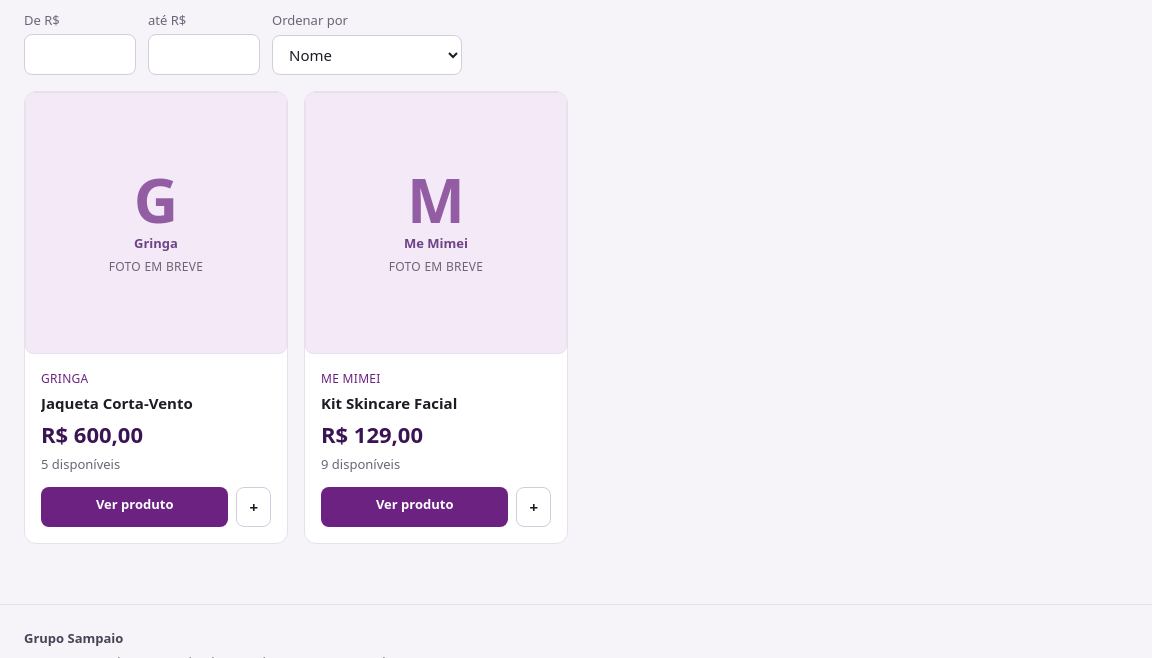
GAP-PRD-114 — a escolha das parcelas no checkout › cartão numa loja que parcela em 6x: a tela oferece 1x a 6x com o valor, e o número viaja no corpo
(page scrolled)
Expected: the text "Jaqueta Corta-Vento" is shown, 41,392 -> 193,412
Click the button "+" below "5 disponíveis".
click(254, 507)  # box 236,486 -> 271,527
(page scrolled)
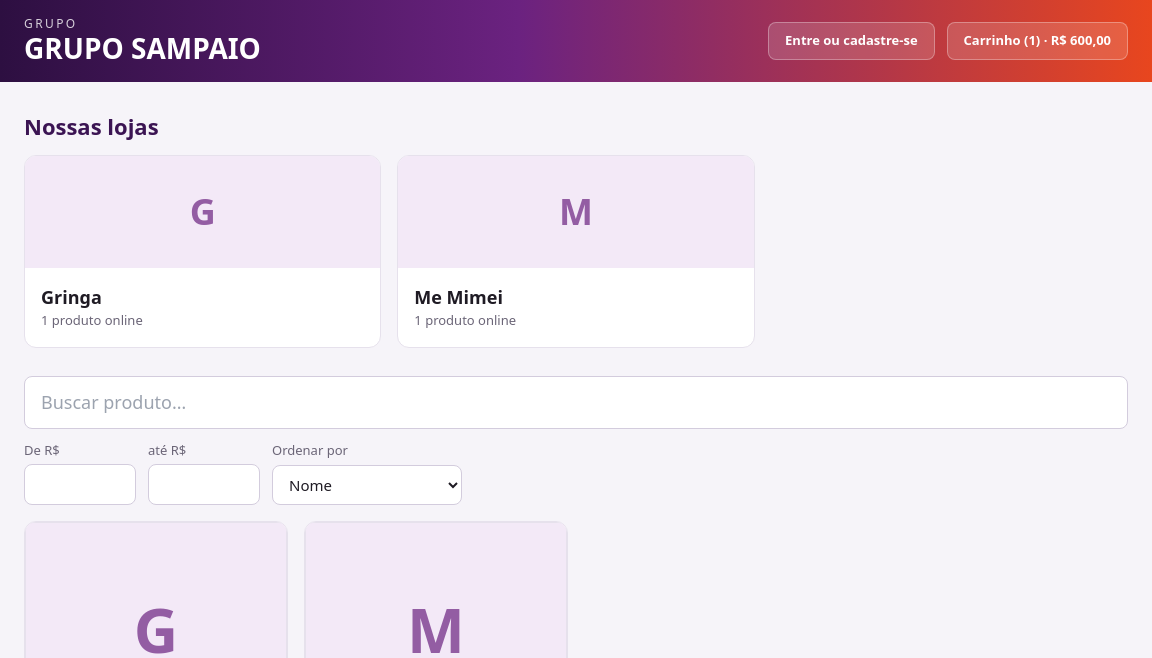
Click the button "Carrinho (1) · R$ 600,00".
click(1037, 41)  # box 947,22 -> 1128,60
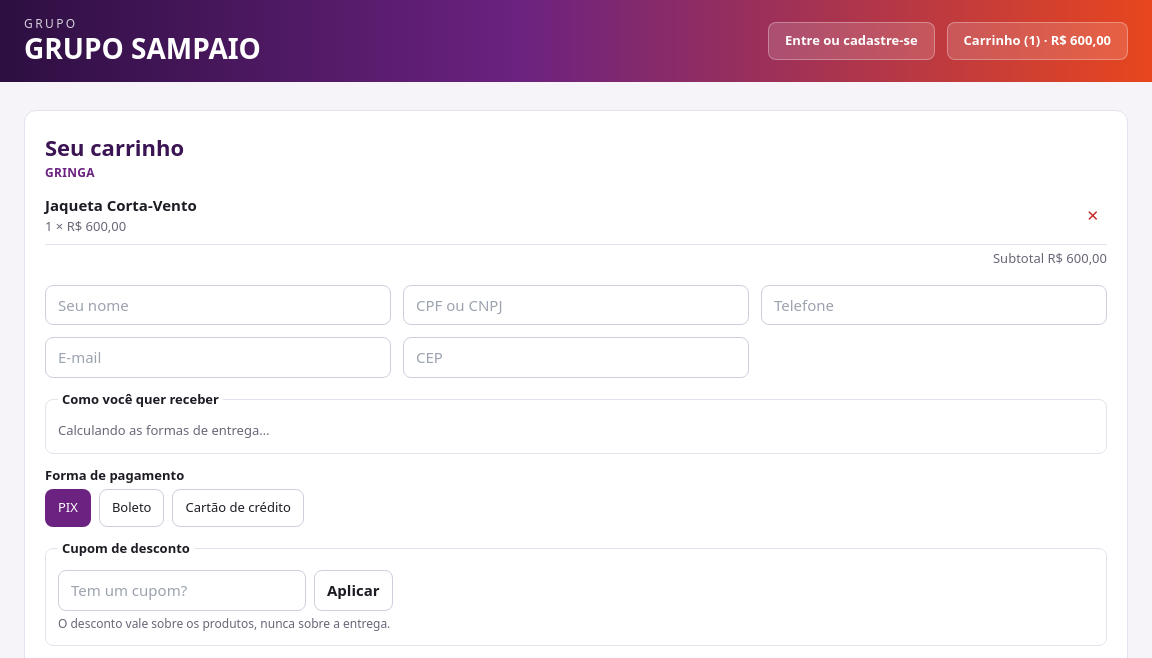
Type "Cliente Teste" into the field labelled "nome".
click(218, 305); type("Cliente Teste")  # box 45,284 -> 391,325
Type "11144477735" into the field labelled "CPF ou CNPJ".
click(576, 305); type("11144477735")  # box 403,284 -> 749,325
Type "cliente@exemplo.com" into the field labelled "E-mail".
click(218, 357); type("cliente@exemplo.com")  # box 45,337 -> 391,378
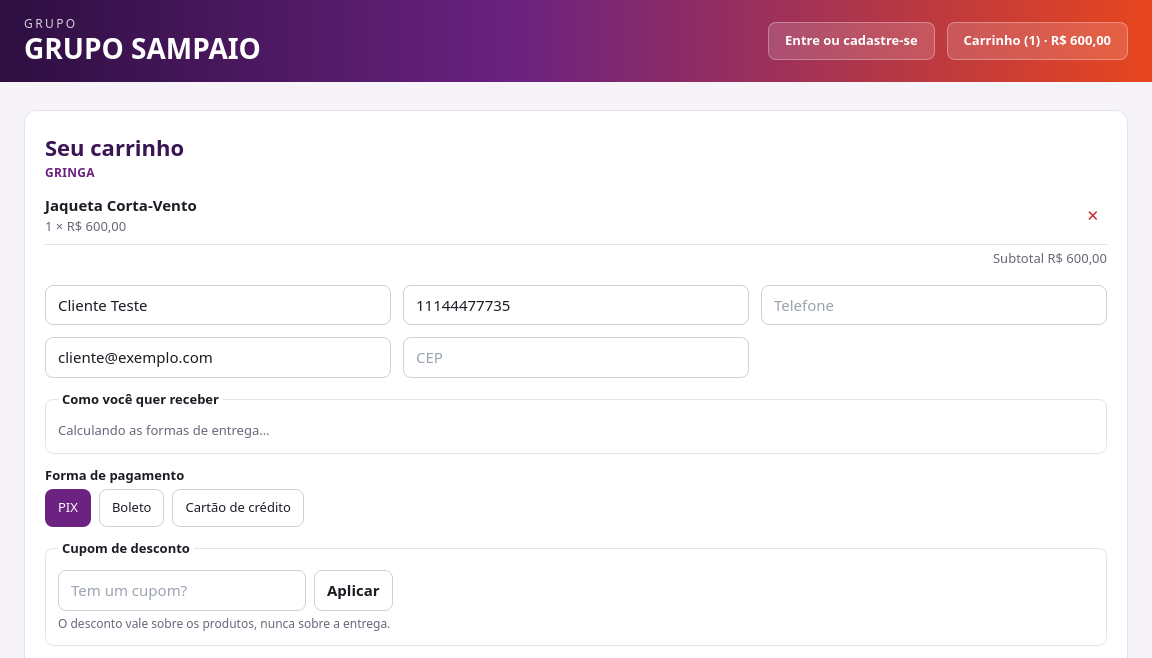
Click the radio button labelled "Cartão de crédito".
click(238, 508)  # box 172,489 -> 304,526
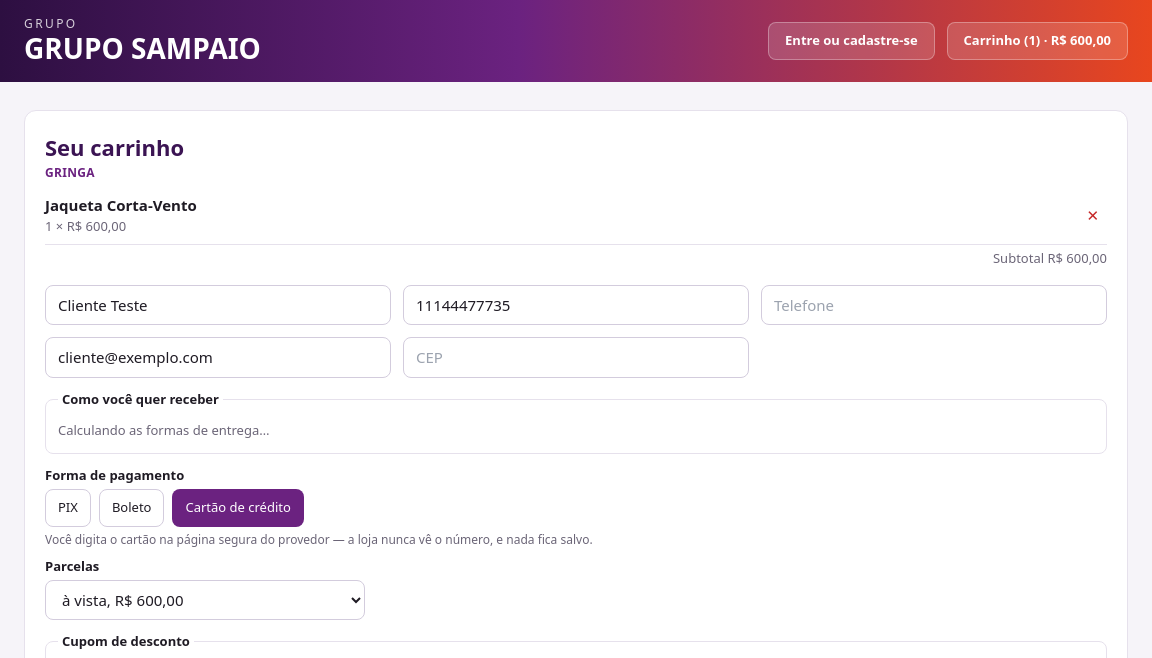
Select "6x de R$ 100,00" in the dropdown labelled "Parcelas" at [205, 600], box 45,580 -> 365,620
(page scrolled)
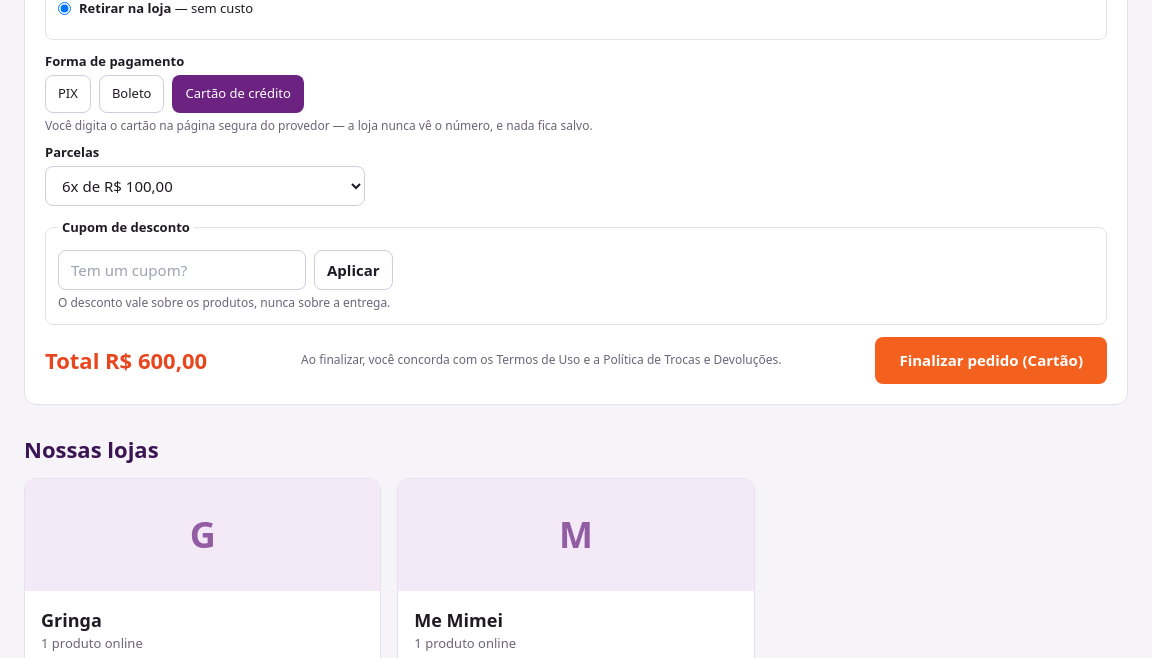
Click the button "Finalizar pedido (Cartão)".
click(991, 360)  # box 875,337 -> 1107,384
(page scrolled)
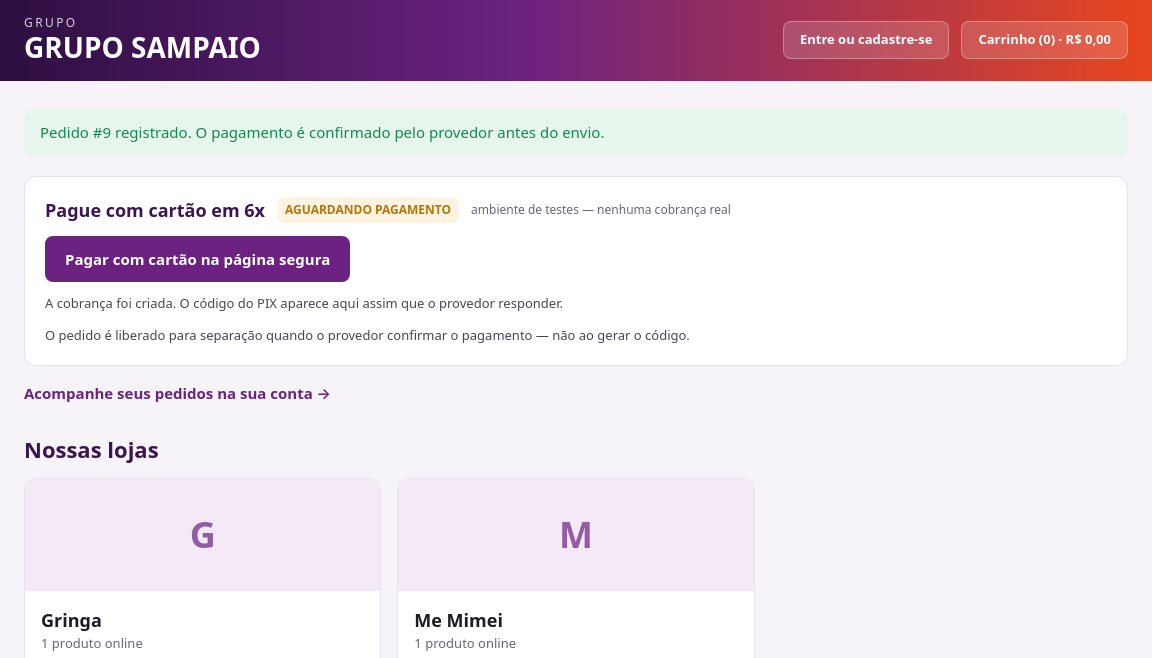
Expected: the heading "Pague com cartão em 6x" is shown, 45,196 -> 265,224
